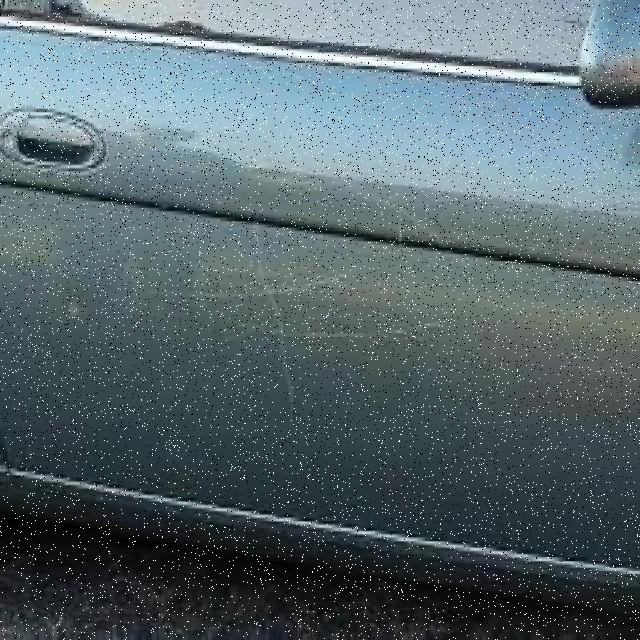damage: (124, 160, 452, 415)
